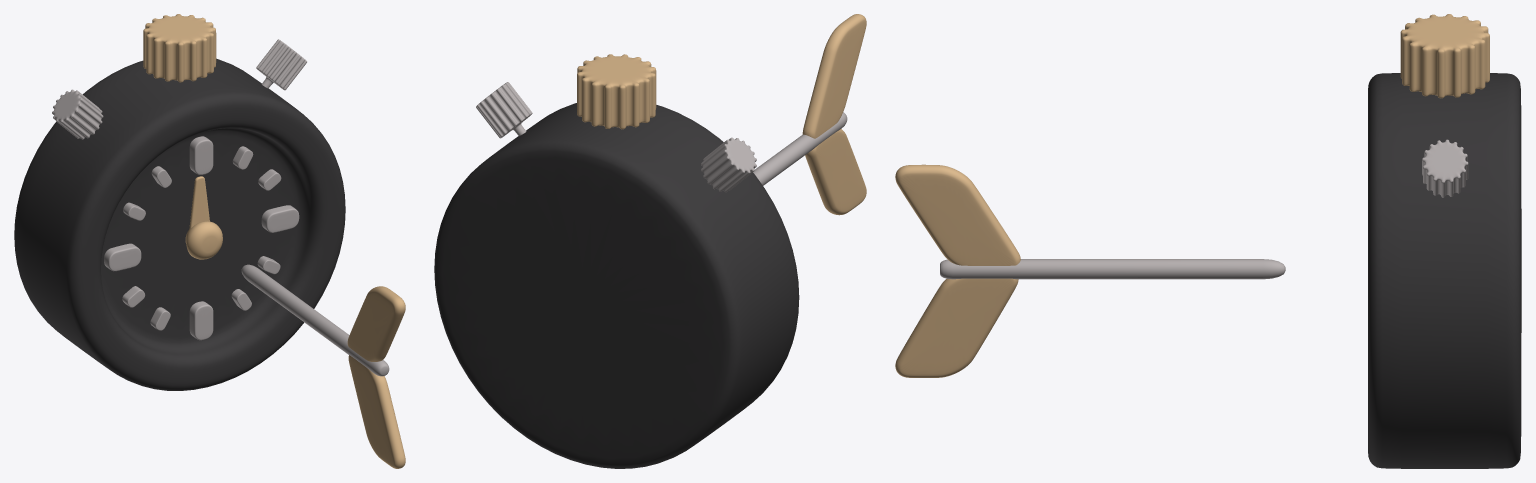
The model's file is deadline-animated-3d-icon-306001877997.glb.
3 views of the same model, side by side, from view 1: azimuth 30°, elevation 25°; view 2: azimuth 150°, elevation 25°; view 3: azimuth 270°, elevation 25° (orthographic). The views are drawn at different scales.
Visible parts, largest first — view 1: Base.010, Flight, Button 1.005, Numbers A.008, Button 2.003, Barrel, Numbers B.008, Core.008, Hour Pin.008; view 2: Base.010, Flight, Button 1.005, Button 2.003, Barrel; view 3: Base.010, Flight, Barrel, Button 1.005, Button 2.003.
Part boxes in pixels (bbox=[...]): Base.010: bbox=[14, 58, 345, 390]; Flight: bbox=[347, 286, 405, 468]; Button 1.005: bbox=[143, 14, 216, 82]; Numbers A.008: bbox=[104, 136, 299, 340]; Button 2.003: bbox=[52, 39, 306, 139]; Barrel: bbox=[241, 264, 389, 376]; Numbers B.008: bbox=[122, 146, 281, 330]; Core.008: bbox=[185, 221, 222, 259]; Hour Pin.008: bbox=[189, 176, 209, 229]; Base.010: bbox=[434, 103, 799, 468]; Flight: bbox=[802, 14, 866, 215]; Button 1.005: bbox=[577, 54, 656, 129]; Button 2.003: bbox=[476, 82, 756, 192]; Barrel: bbox=[753, 112, 847, 185]; Base.010: bbox=[1368, 73, 1521, 468]; Flight: bbox=[895, 164, 1020, 377]; Barrel: bbox=[940, 259, 1285, 279]; Button 1.005: bbox=[1400, 14, 1489, 98]; Button 2.003: bbox=[1422, 139, 1468, 197].
Size of the model in its own units: 1.99 by 2.32 by 3.14.
